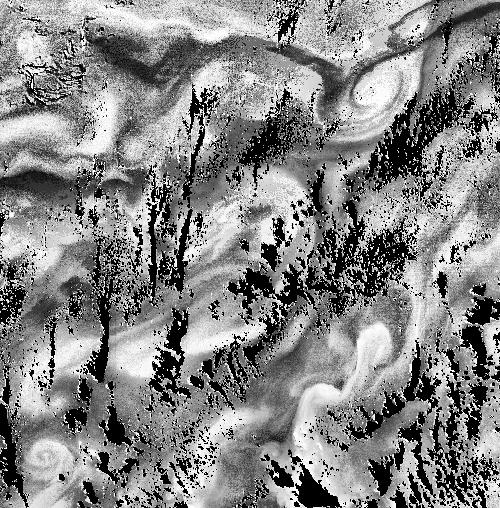CE: (338, 51, 426, 124), (24, 440, 72, 476)
